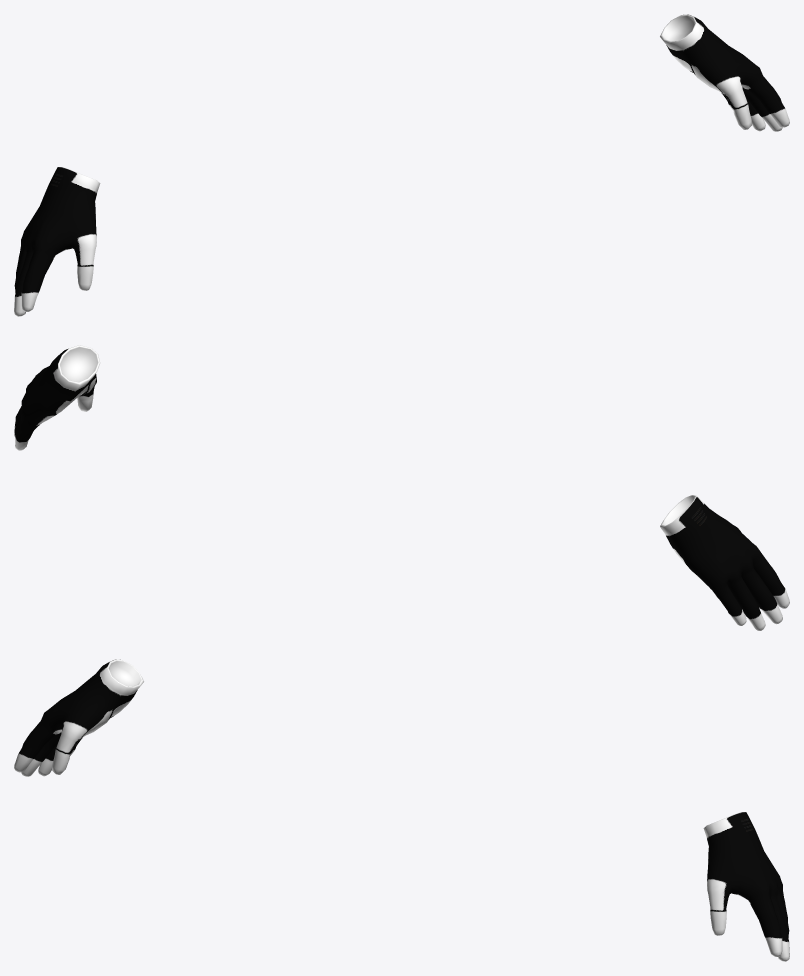
Rendered from SurvivorMale_Hands_TactGloves_HardlineV2_LOD0.glb.
The picture shows the model from 3 angles, top to bottom: view 1: azimuth 30°, elevation 25°; view 2: azimuth 150°, elevation 25°; view 3: azimuth 330°, elevation 25°; orthographic projection.
Parts seen in each view (by area): view 1: Hoodie; view 2: Hoodie; view 3: Hoodie.
Part boxes in pixels (x1=…): Hoodie: x1=14, y1=14, x2=789, y2=316; Hoodie: x1=14, y1=345, x2=789, y2=630; Hoodie: x1=14, y1=659, x2=789, y2=961.
Size of the model in its own units: 1.34 by 0.2027 by 0.1583.
1 material, 1 textured.
